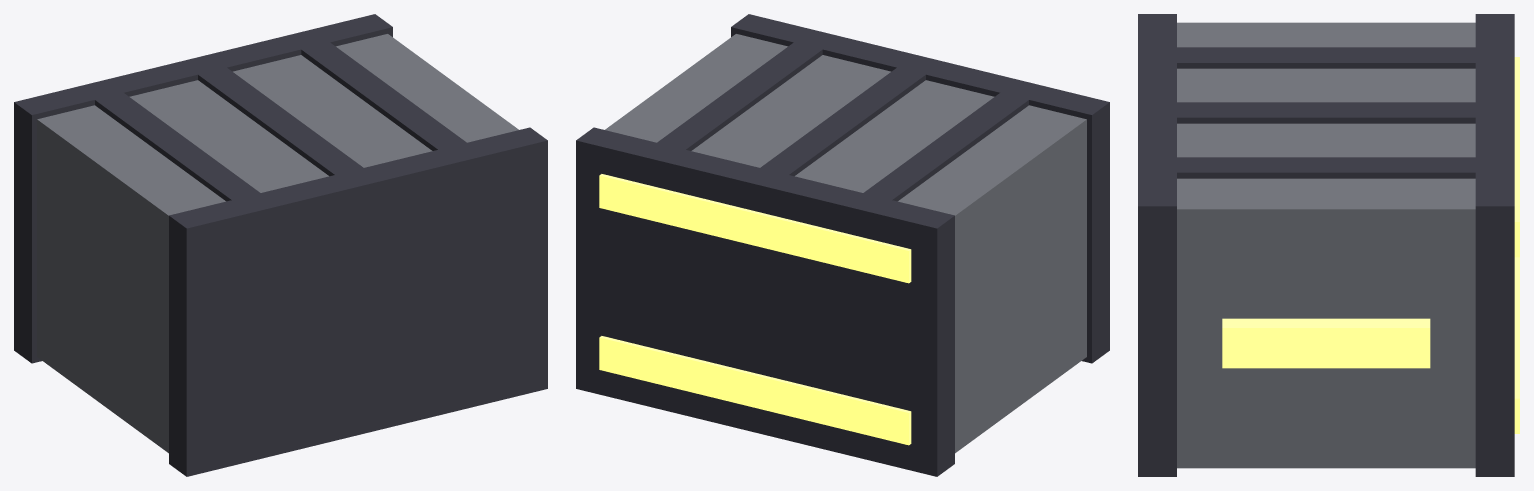
The model's file is obstacle-block.glb.
3 renders of one model, left to right at view 1: azimuth 30°, elevation 25°; view 2: azimuth 150°, elevation 25°; view 3: azimuth 270°, elevation 25°, orthographic. The views are drawn at different scales.
Parts seen in each view (by area): view 1: 后法兰, 舱体, 前法兰, 竖肋1, 竖肋2, 竖肋0; view 2: 前法兰, 舱体, 后法兰, 条纹0, 条纹1, 竖肋1, 竖肋2, 竖肋0; view 3: 舱体, 前法兰, 后法兰, 侧灯, 竖肋0, 竖肋2, 竖肋1, 条纹0, 条纹1.
Part boxes in pixels (box(x1,y1,x2,y2)): 后法兰: box(169, 127, 547, 476); 舱体: box(37, 34, 518, 453); 前法兰: box(14, 14, 392, 363); 竖肋1: box(192, 63, 368, 178); 竖肋2: box(295, 38, 472, 153); 竖肋0: box(95, 88, 266, 203); 前法兰: box(576, 127, 954, 476); 舱体: box(605, 34, 1086, 453); 后法兰: box(731, 14, 1109, 363); 条纹0: box(599, 174, 911, 283); 条纹1: box(599, 336, 911, 445); 竖肋1: box(758, 63, 931, 179); 竖肋2: box(653, 38, 827, 151); 竖肋0: box(858, 88, 1033, 201); 舱体: box(1177, 22, 1475, 468); 前法兰: box(1475, 14, 1514, 476); 后法兰: box(1138, 14, 1176, 476); 侧灯: box(1222, 318, 1430, 368); 竖肋0: box(1164, 47, 1488, 68); 竖肋2: box(1164, 157, 1488, 178); 竖肋1: box(1164, 102, 1486, 123); 条纹0: box(1514, 57, 1519, 257); 条纹1: box(1514, 257, 1519, 433).
Bounding box in the file's own units: 3.62 × 2.3 × 2.94.
